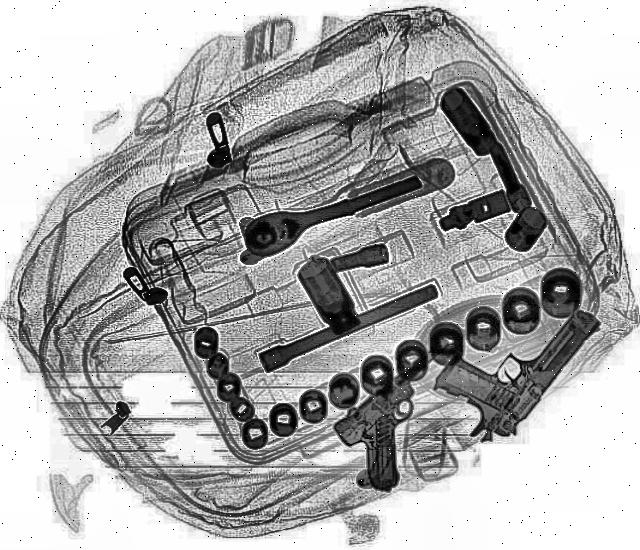Gun: (416, 277, 612, 451), (313, 372, 471, 496)
